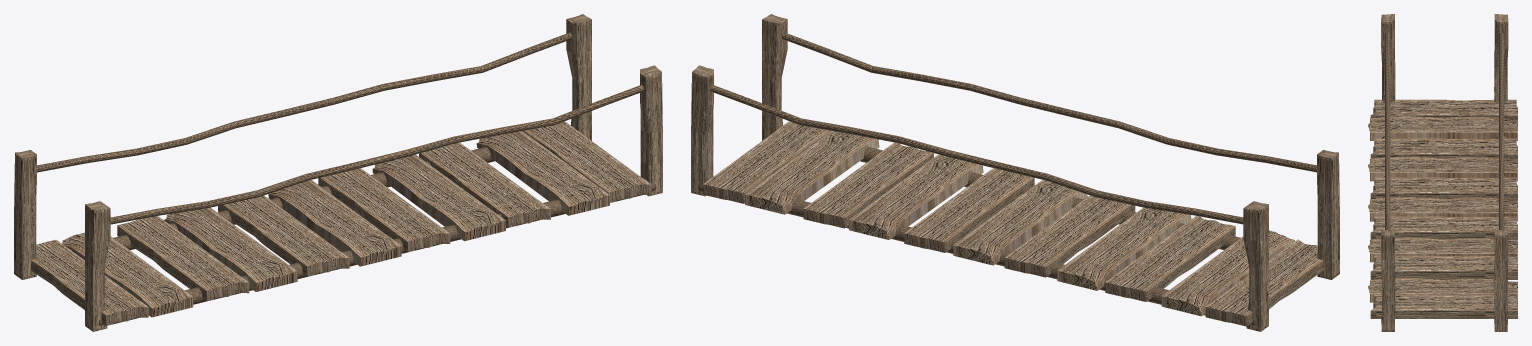
File: bridge.fbx
3 views of the same model, side by side, from view 1: azimuth 30°, elevation 25°; view 2: azimuth 150°, elevation 25°; view 3: azimuth 270°, elevation 25° (orthographic). The views are drawn at different scales.
Visible parts, largest first — view 1: Cylinder; view 2: Cylinder; view 3: Cylinder.
Part boxes in pixels (x1,y1,x2,y2): Cylinder: (14, 14, 662, 331); Cylinder: (691, 14, 1339, 331); Cylinder: (1368, 14, 1517, 331).
Bounding box in the file's own units: 2834 × 578 × 810.
Materials: 2 (2 with a texture image).
